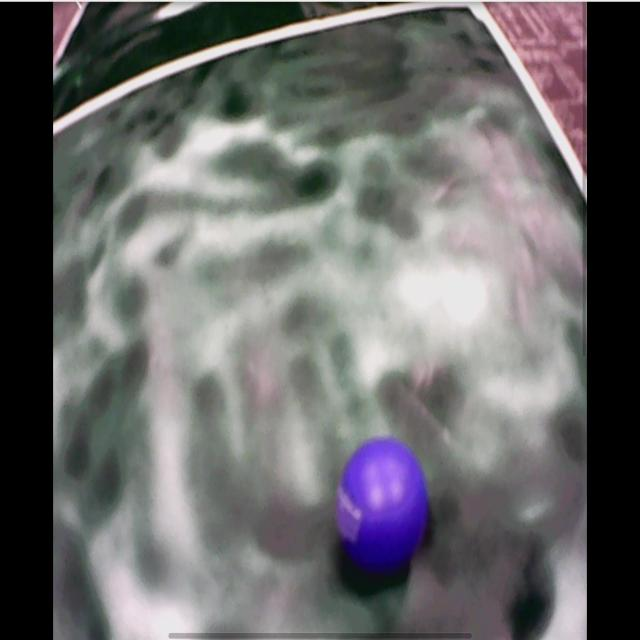ball: (341, 438, 426, 571)
